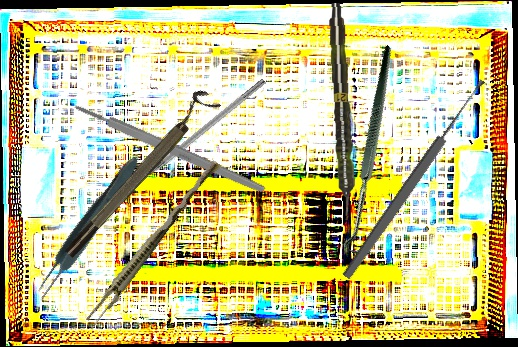Fixation Ring: (55, 86, 221, 261)
Handpiece: (326, 2, 357, 221)
Hook Surgical: (273, 45, 478, 262), (127, 76, 267, 193)
Scalpel Handle: (72, 100, 268, 196)
Surgical Spoon: (340, 77, 489, 281)
Tissue Forceps: (84, 155, 222, 329), (27, 150, 146, 306)
